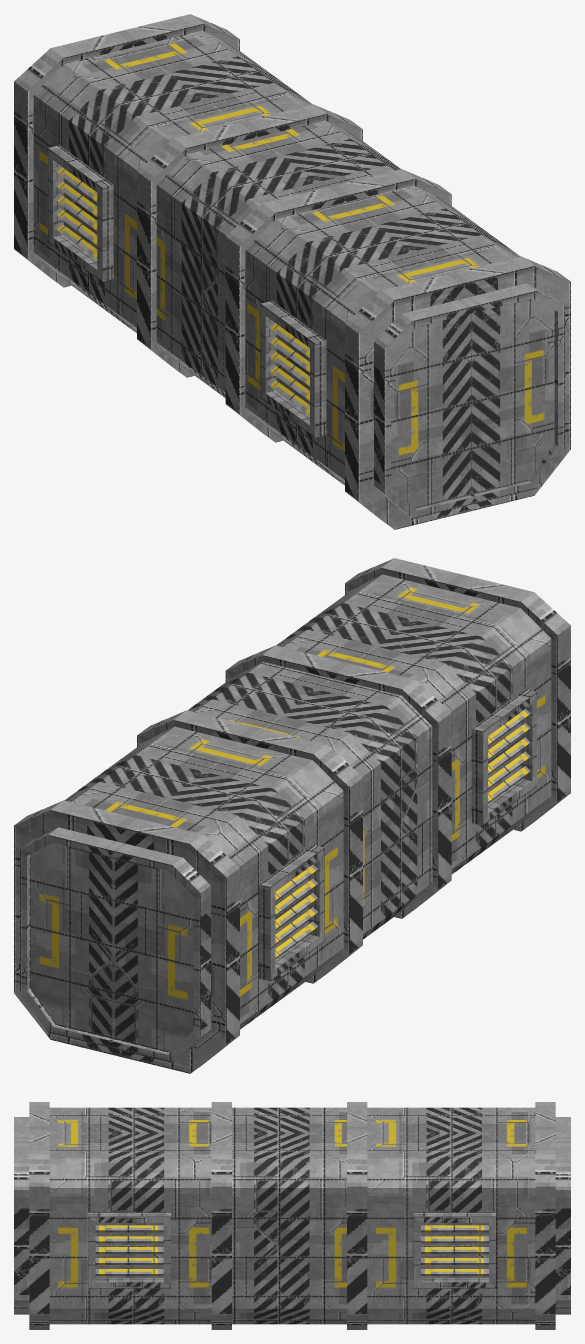
The model's file is container.fbx.
The picture shows the model from 3 angles, top to bottom: view 1: azimuth 30°, elevation 25°; view 2: azimuth 150°, elevation 25°; view 3: azimuth 270°, elevation 25°; orthographic projection. The views are drawn at different scales.
Visible parts, largest first — view 1: Cylinder, Cylinder.001; view 2: Cylinder, Cylinder.001; view 3: Cylinder, Cylinder.001.
Part boxes in pixels (x1,y1,x2,y2): Cylinder: [14, 14, 570, 529]; Cylinder.001: [260, 301, 326, 437]; Cylinder: [14, 558, 570, 1073]; Cylinder.001: [471, 689, 536, 825]; Cylinder: [14, 1102, 570, 1329]; Cylinder.001: [88, 1212, 170, 1288].
Bounding box in the file's own units: 2.32 × 2.29 × 6.58.
